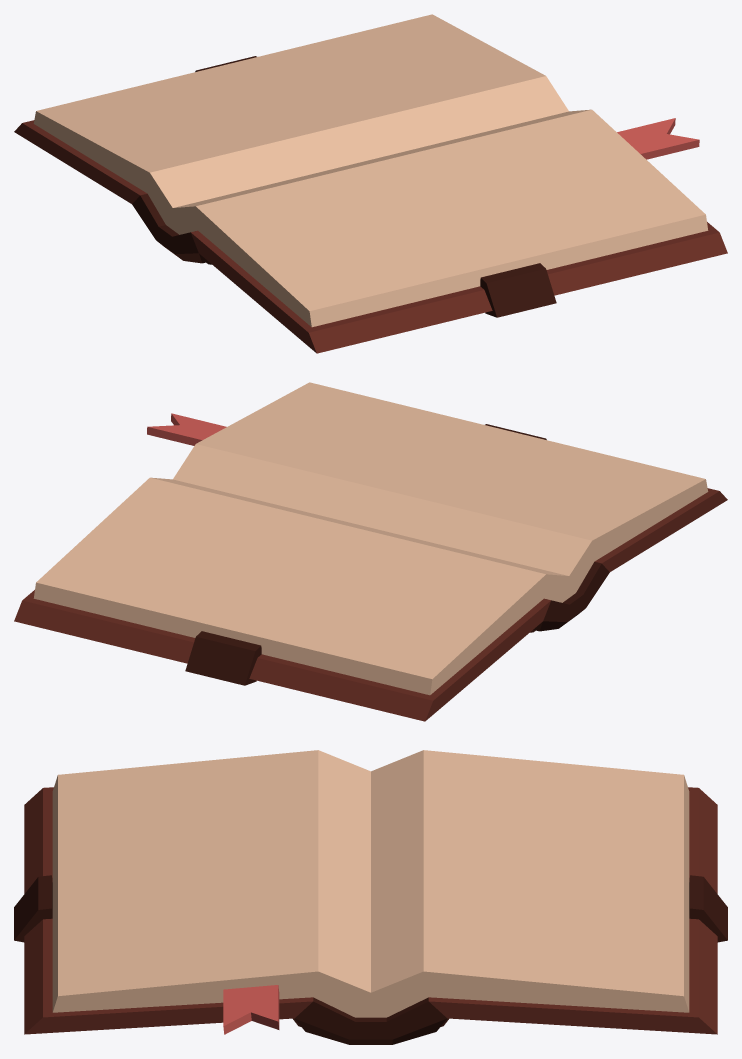
File: Open Spellbook.glb
3 views of the same model, one above another, from view 1: azimuth 30°, elevation 25°; view 2: azimuth 150°, elevation 25°; view 3: azimuth 270°, elevation 25° (orthographic). The views are drawn at different scales.
Visible parts, largest first — view 1: Open Spellbook; view 2: Open Spellbook; view 3: Open Spellbook.
Part boxes in pixels (x1=…): Open Spellbook: x1=14, y1=14, x2=727, y2=353; Open Spellbook: x1=14, y1=382, x2=727, y2=721; Open Spellbook: x1=14, y1=750, x2=727, y2=1044.
Bounding box in the file's own units: 50.84 × 7.59 × 58.47.
